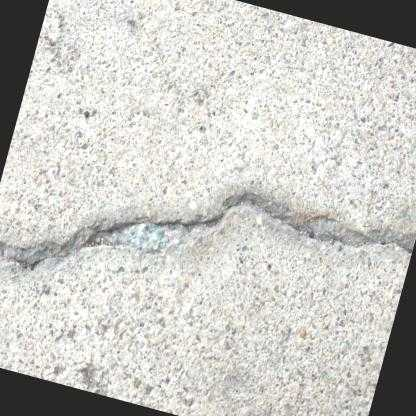crack: (0, 193, 414, 270)
